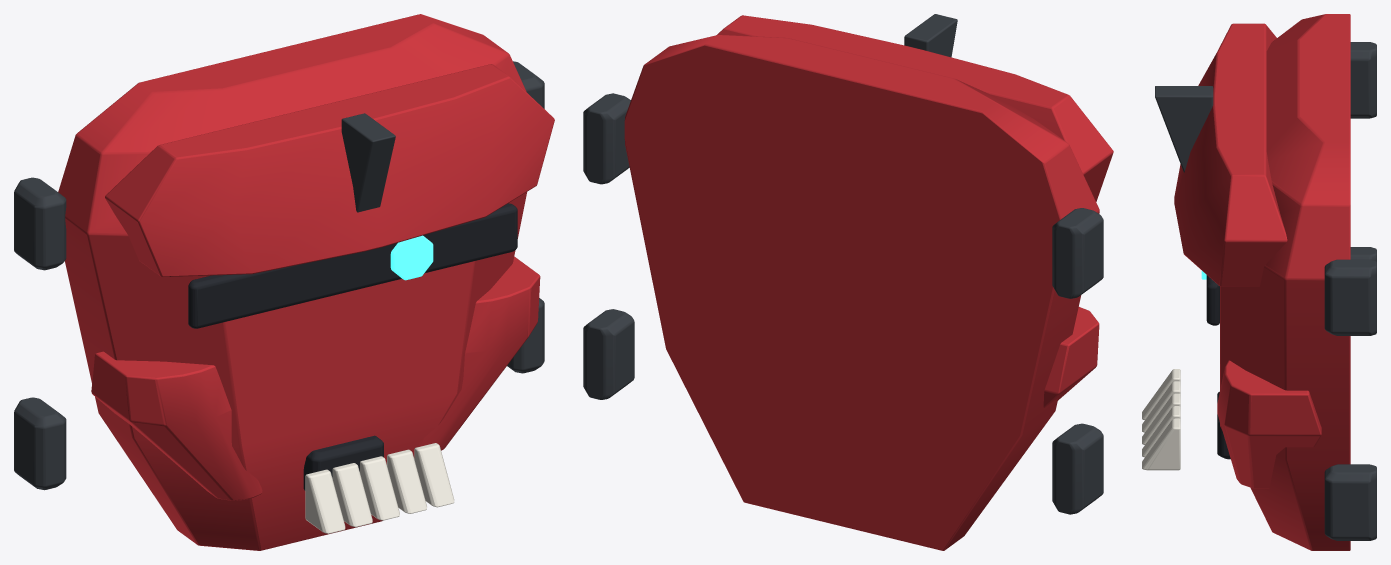
File: HeadFront_Set04_Ripjaw.fbx
3 views of the same model, side by side, from view 1: azimuth 30°, elevation 25°; view 2: azimuth 150°, elevation 25°; view 3: azimuth 270°, elevation 25° (orthographic). The views are drawn at different scales.
Visible parts, largest first — view 1: HeadFront_Set04_Ripjaw; view 2: HeadFront_Set04_Ripjaw; view 3: HeadFront_Set04_Ripjaw.
Boxes of the visible parts, box(x1,y1,x2,y2) form: HeadFront_Set04_Ripjaw: box(14, 14, 554, 550); HeadFront_Set04_Ripjaw: box(583, 14, 1113, 550); HeadFront_Set04_Ripjaw: box(1142, 14, 1376, 550).
Size of the model in its own units: 0.63 by 0.54 by 0.2692.
